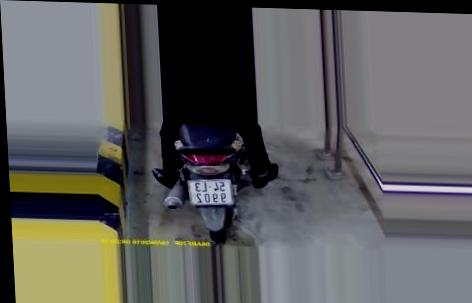License_Plate: (186, 176, 241, 211)
